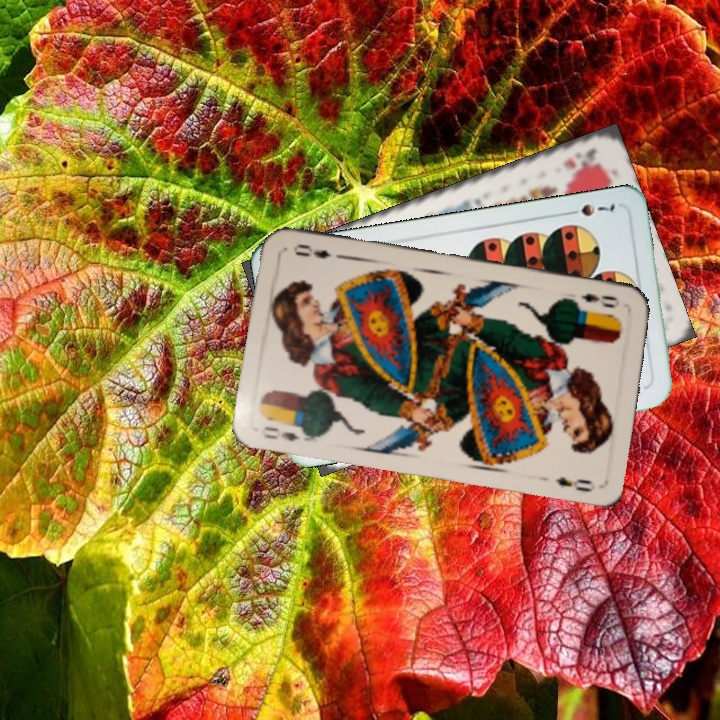EO: (576, 289, 622, 311), (260, 422, 303, 444)
HK: (558, 144, 603, 176)
S7: (562, 198, 618, 219)
